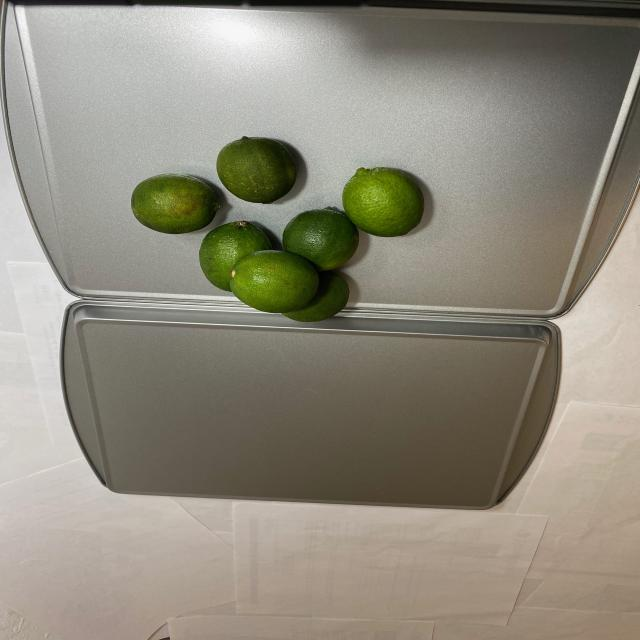lemon: (125, 131, 429, 322)
